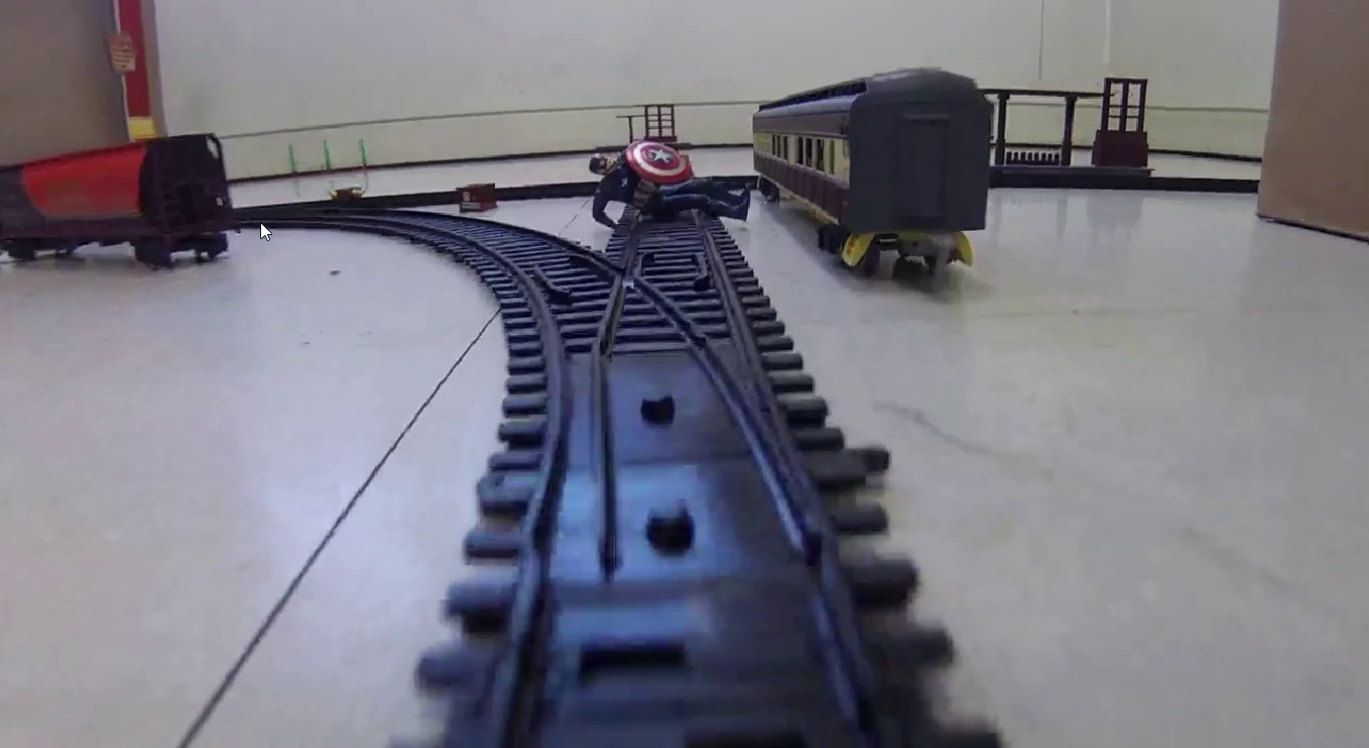people: (589, 141, 750, 224)
